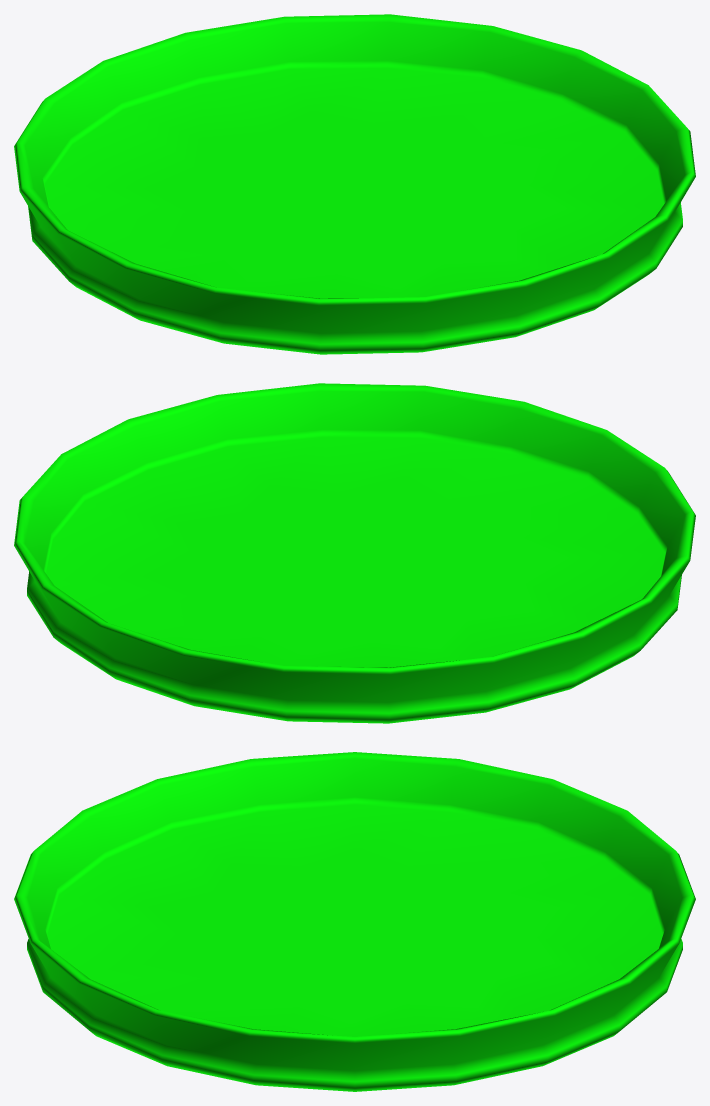
Rendered from LilyPad_1.fbx.
3 views of the same model, one above another, from view 1: azimuth 30°, elevation 25°; view 2: azimuth 150°, elevation 25°; view 3: azimuth 270°, elevation 25° (orthographic).
Parts seen in each view (by area): view 1: LilyPad_1; view 2: LilyPad_1; view 3: LilyPad_1.
Boxes of the visible parts, x1,y1,x2,y2 form: LilyPad_1: (14,14,695,354); LilyPad_1: (14,383,695,723); LilyPad_1: (14,752,695,1091).
Bounding box in the file's own units: 168 × 16.96 × 168.
